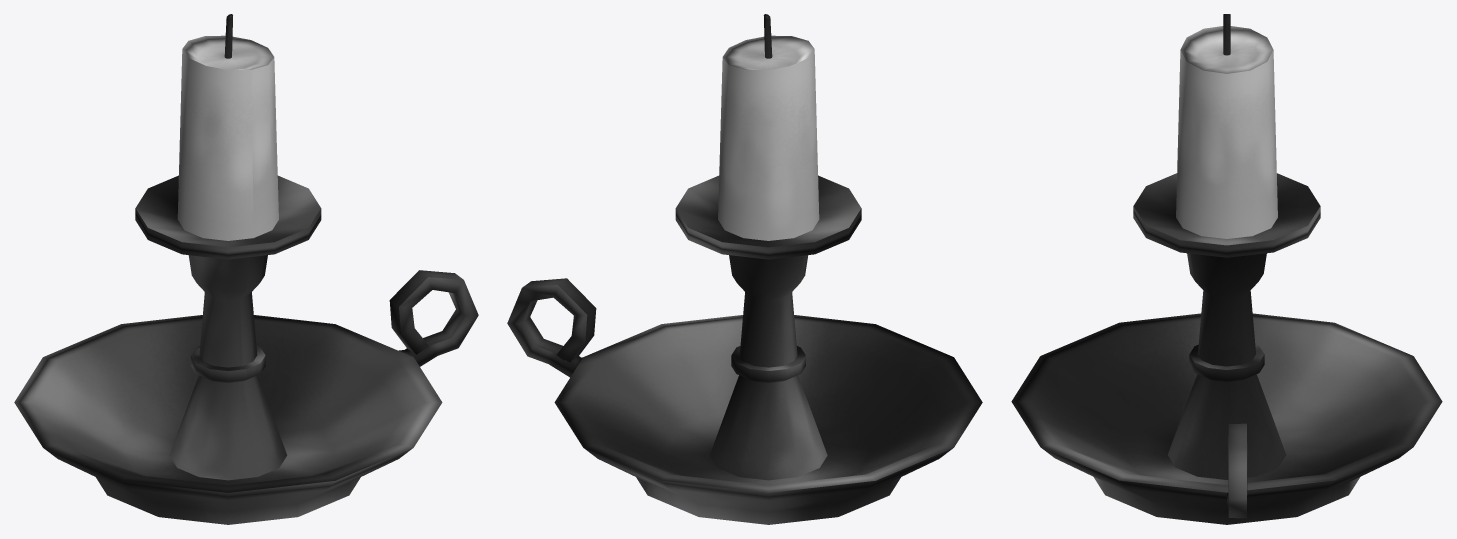
File: candle.fbx
3 views of the same model, side by side, from view 1: azimuth 30°, elevation 25°; view 2: azimuth 150°, elevation 25°; view 3: azimuth 270°, elevation 25° (orthographic).
Visible parts, largest first — view 1: Candle; view 2: Candle; view 3: Candle.
Part boxes in pixels (x1,y1,x2,y2): Candle: (14, 14, 478, 524); Candle: (507, 14, 982, 524); Candle: (1011, 14, 1442, 524).
Size of the model in its own units: 9.67 by 9.53 by 8.21.
